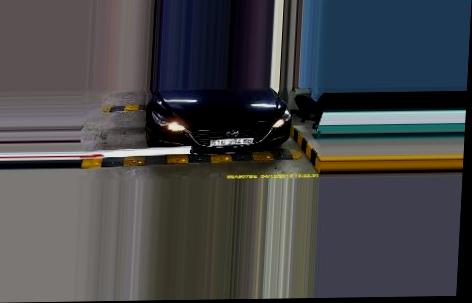License_Plate: (208, 135, 255, 149)
